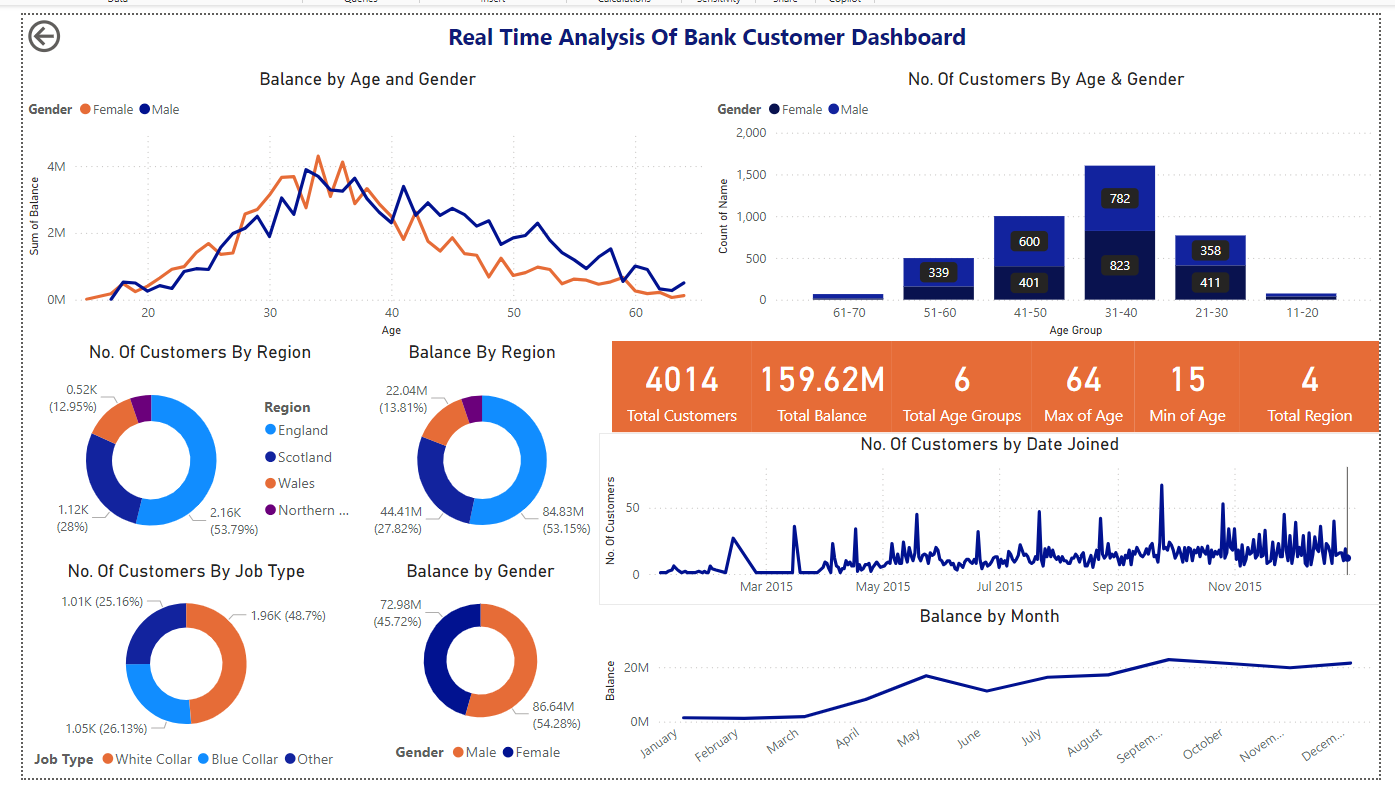

The page's visual inventory and layout, read from the dashboard file:
{"tool":"powerbi","page":{"name":"Page 1","canvas":[1280,720],"ordinal":0},"visuals":[{"type":"lineChart","title":"Balance by Age and Gender","fields":{"Y":["Bank Data Analysis.Balance"],"Category":["Bank Data Analysis.Age"],"Series":["Bank Data Analysis.Gender"]},"box":[0,50,650,257.5],"z":0},{"type":"columnChart","title":"No. Of Customers By Age & Gender","fields":{"Y":["Bank Data Analysis.Name"],"Category":["Bank Data Analysis.Age Group"],"Series":["Bank Data Analysis.Gender"]},"box":[650,50,630.2,257.5],"z":1000},{"type":"donutChart","title":"No. Of Customers By Region","fields":{"Y":["Bank Data Analysis.Name"],"Category":["Bank Data Analysis.Region"]},"box":[9,308,315,206],"z":2000},{"type":"donutChart","title":"No. Of Customers By Job Type","fields":{"Category":["Bank Data Analysis.Job Classification"],"Y":["Bank Data Analysis.Name"]},"box":[0,514,308,206],"z":3000},{"type":"donutChart","title":"Balance by Gender","fields":{"Category":["Bank Data Analysis.Gender"],"Y":["Bank Data Analysis.Balance"]},"box":[308,514,248,200],"z":4000},{"type":"lineChart","fields":{"Y":["Bank Data Analysis.Name"],"Category":["Bank Data Analysis.Date Joined"]},"box":[543,394,737,163],"z":5000},{"type":"donutChart","title":"Balance By Region","fields":{"Category":["Bank Data Analysis.Region"],"Y":["Bank Data Analysis.Balance"]},"box":[324,308,219,206],"z":8000},{"type":"lineChart","fields":{"Y":["Bank Data Analysis.Balance"],"Category":["Bank Data Analysis.Date Joined.Variation.Date Hierarchy.Month"]},"box":[543,557,737,163],"z":8001},{"type":"card","fields":{"Values":["Bank Data Analysis.Name"]},"box":[556,308,132,86],"z":8002},{"type":"card","fields":{"Values":["Bank Data Analysis.Age Group"]},"box":[820,308,132,86],"z":8003},{"type":"card","fields":{"Values":["Bank Data Analysis.Balance"]},"box":[688,308,132,86],"z":8004},{"type":"card","fields":{"Values":["Bank Data Analysis.Age"]},"box":[952,308,97,86],"z":8005},{"type":"actionButton","box":[0,0,100,40],"z":8006},{"type":"card","fields":{"Values":["Bank Data Analysis.Region"]},"box":[1148,308,132,86],"z":8007},{"type":"card","fields":{"Values":["Bank Data Analysis.Age"]},"box":[1049,308,99,86],"z":8008},{"type":"textbox","box":[50,0,1190.6,39.6],"z":8009}]}

Visuals, with their boxes on the page's 1280x720 design canvas (x1, y1, x2, y2). These are canvas units, not pixel positions in the 1395x795 screenshot, which may show the page scaled, cropped or inside an application window:
"Balance by Age and Gender" lineChart: BBox(0, 50, 650, 308)
"No. Of Customers By Age & Gender" columnChart: BBox(650, 50, 1280, 308)
"No. Of Customers By Region" donutChart: BBox(9, 308, 324, 514)
"No. Of Customers By Job Type" donutChart: BBox(0, 514, 308, 720)
"Balance by Gender" donutChart: BBox(308, 514, 556, 714)
lineChart - Bank Data Analysis.Name x Bank Data Analysis.Date Joined: BBox(543, 394, 1280, 557)
"Balance By Region" donutChart: BBox(324, 308, 543, 514)
lineChart - Bank Data Analysis.Balance x Bank Data Analysis.Date Joined.Variation.Date Hierarchy.Month: BBox(543, 557, 1280, 720)
card - Bank Data Analysis.Name: BBox(556, 308, 688, 394)
card - Bank Data Analysis.Age Group: BBox(820, 308, 952, 394)
card - Bank Data Analysis.Balance: BBox(688, 308, 820, 394)
card - Bank Data Analysis.Age: BBox(952, 308, 1049, 394)
actionButton: BBox(0, 0, 100, 40)
card - Bank Data Analysis.Region: BBox(1148, 308, 1280, 394)
card - Bank Data Analysis.Age: BBox(1049, 308, 1148, 394)
textbox: BBox(50, 0, 1241, 40)
